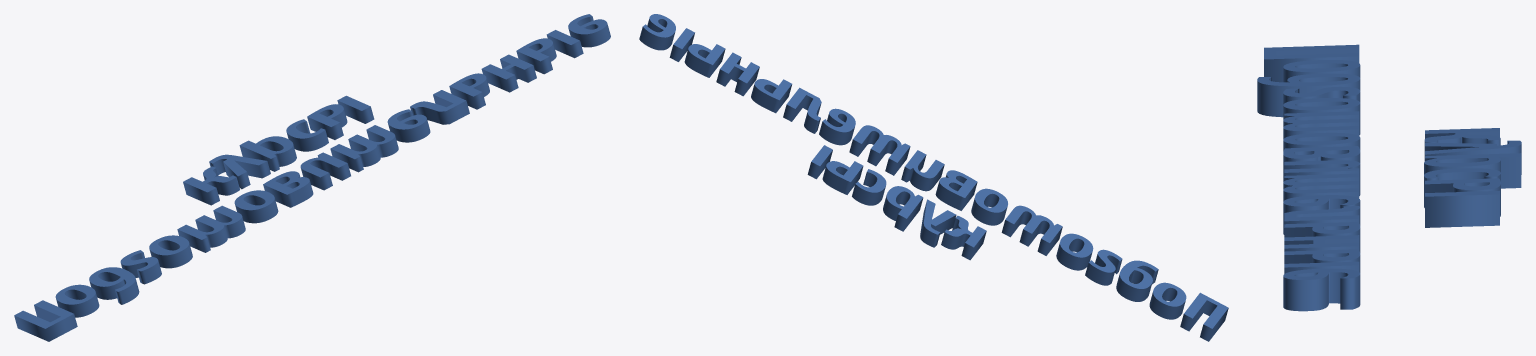
File: courses.glb
3 renders of one model, left to right at view 1: azimuth 30°, elevation 25°; view 2: azimuth 150°, elevation 25°; view 3: azimuth 270°, elevation 25°, orthographic. The views are drawn at different scales.
Parts seen in each view (by area): view 1: Text.004; view 2: Text.004; view 3: Text.004.
Part boxes in pixels (<box>): Text.004: <box>14,14,610,341</box>; Text.004: <box>639,14,1228,341</box>; Text.004: <box>1257,44,1521,311</box>.
Size of the model in its own units: 9.88 by 2.88 by 1.95.
